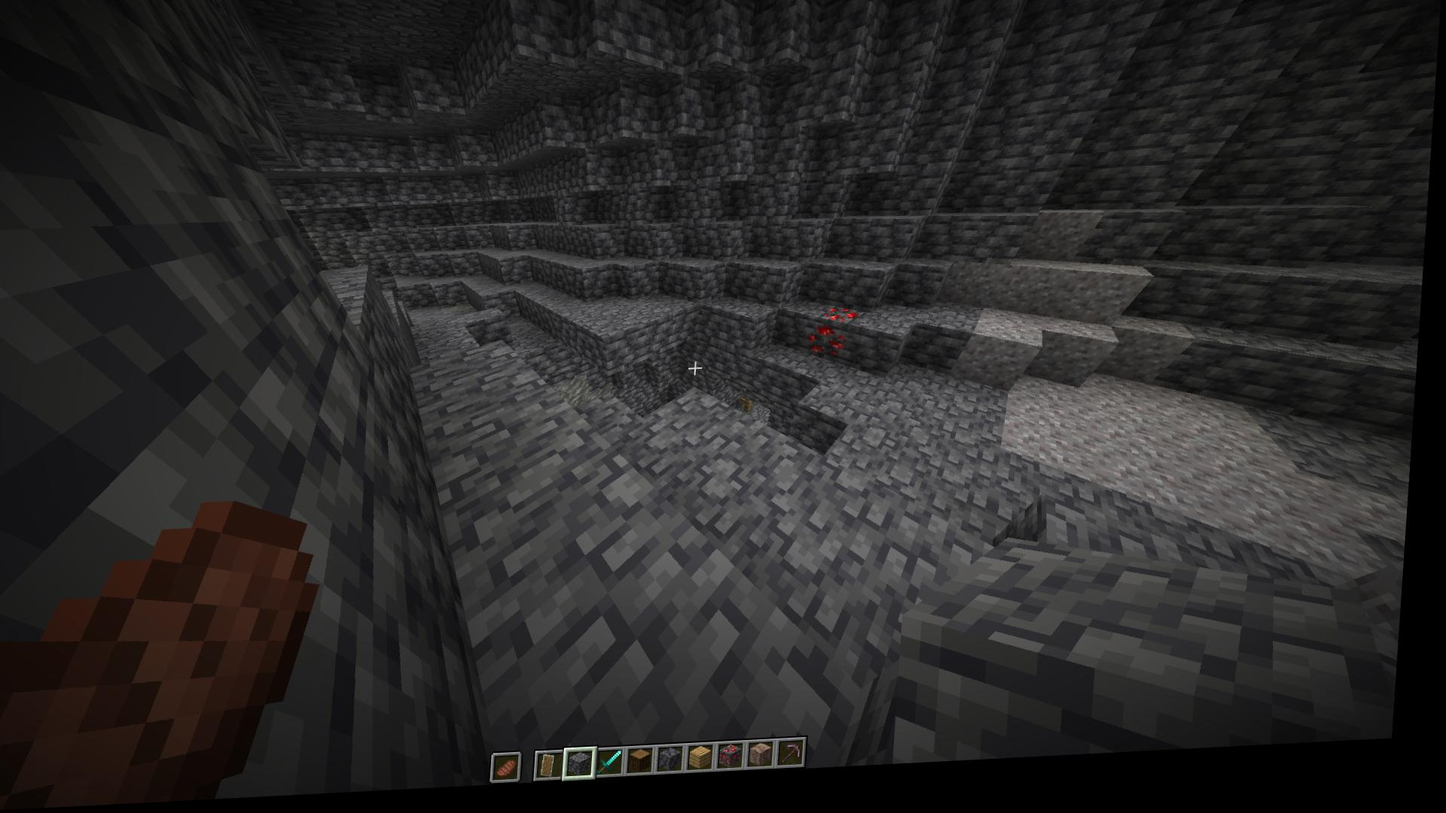redstone ore: (813, 328, 856, 370), (826, 311, 865, 334)
